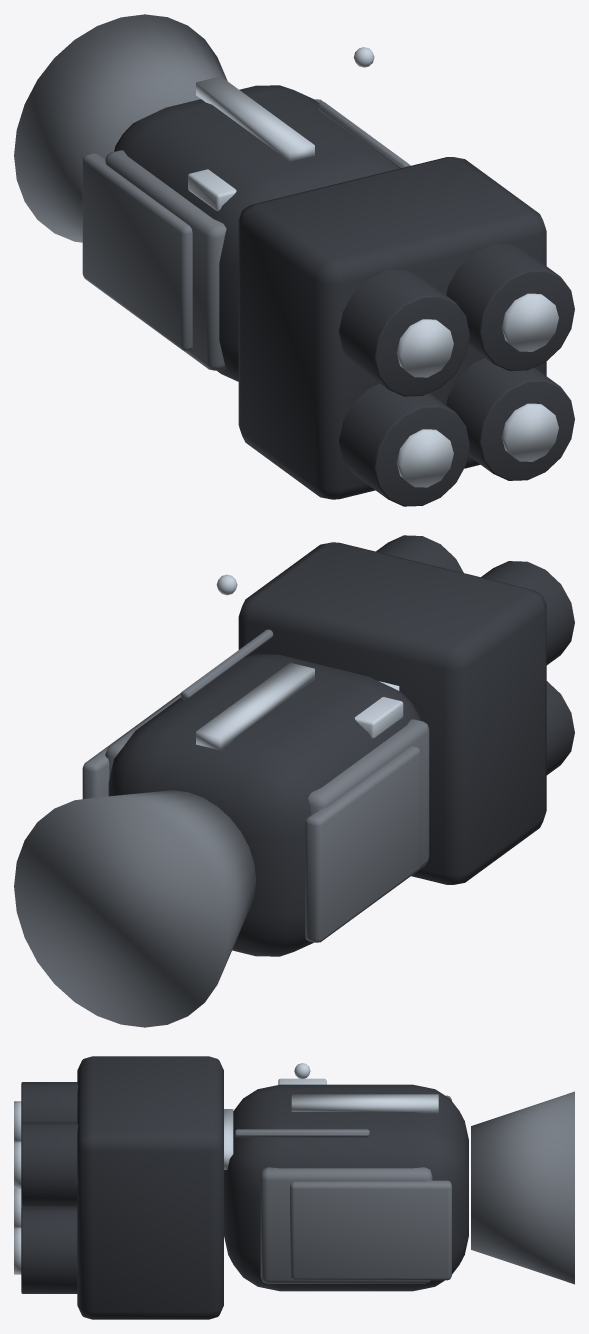
The model's file is weapon_drone_missile.glb.
3 views of the same model, one above another, from view 1: azimuth 30°, elevation 25°; view 2: azimuth 150°, elevation 25°; view 3: azimuth 270°, elevation 25° (orthographic). The views are drawn at different scales.
Parts seen in each view (by area): view 1: weapon_drone_missile; view 2: weapon_drone_missile; view 3: weapon_drone_missile.
Part boxes in pixels (x1=…): weapon_drone_missile: x1=14, y1=14, x2=574, y2=506; weapon_drone_missile: x1=14, y1=535, x2=574, y2=1027; weapon_drone_missile: x1=14, y1=1056, x2=574, y2=1319.
Size of the model in its own units: 0.5808 by 0.7252 by 1.51.
